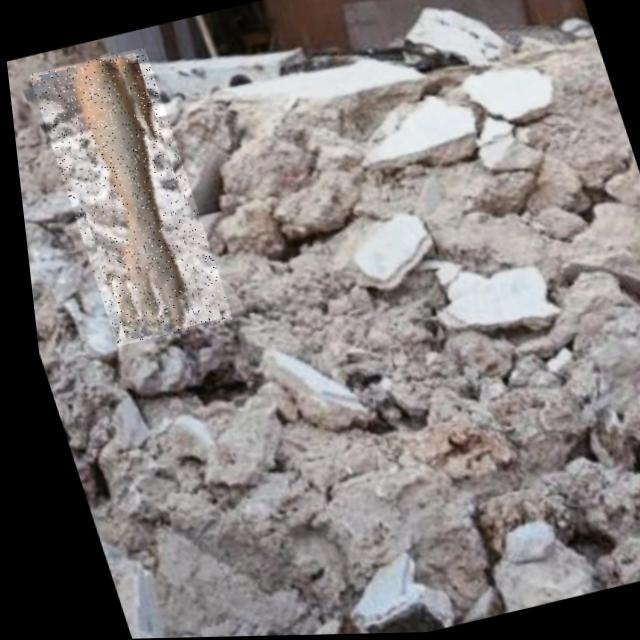Person in Rubble: (25, 47, 227, 348)
